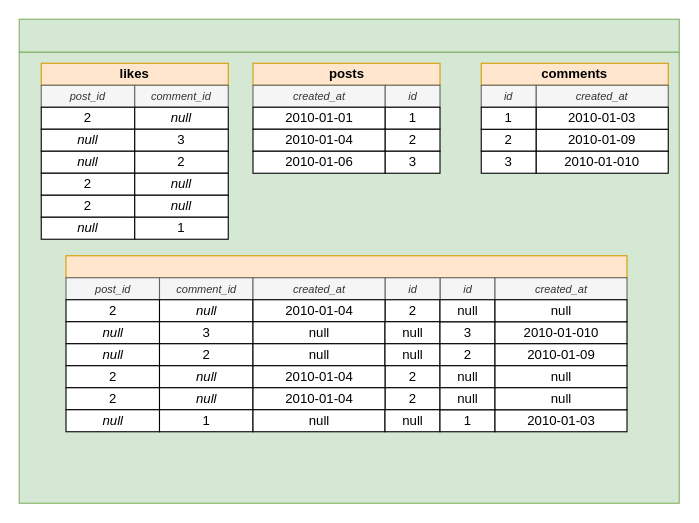
Image size: 699x523. Some labels were removed from this diagram. Each missing label, with the centre of its shape:
"Instagram" goes at point (348, 35).
"likes_posts_comments" goes at point (346, 266).
